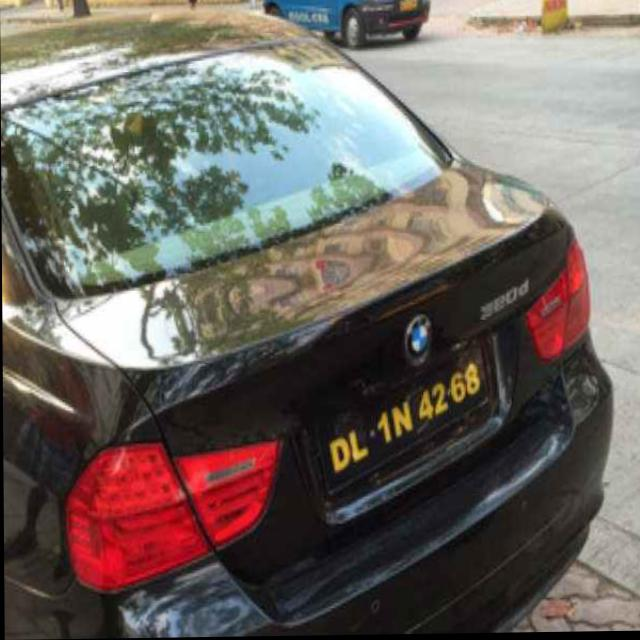licence: (316, 330, 488, 517)
